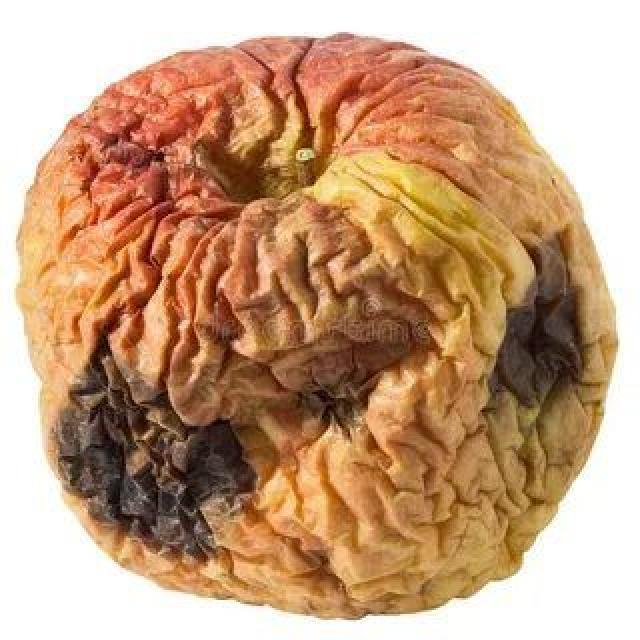Rotten: (35, 48, 600, 602)
